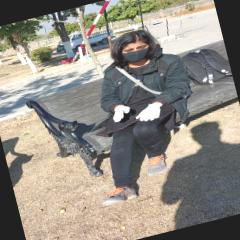gloved: (134, 102, 166, 123), (110, 104, 132, 123)
